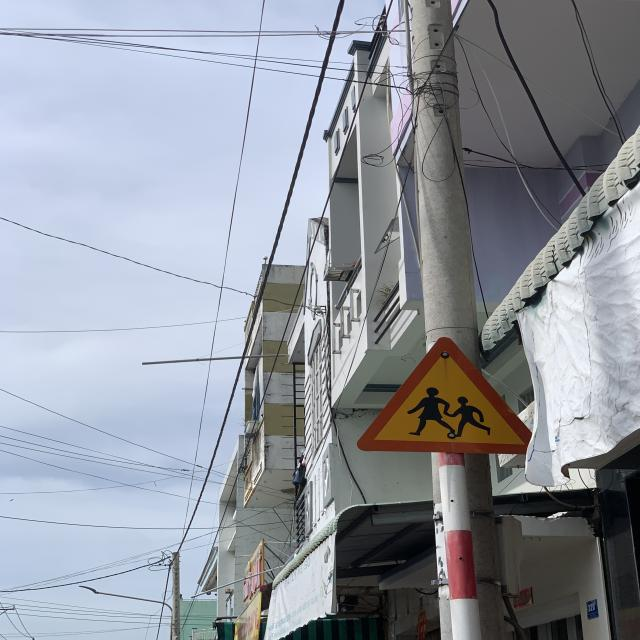Vong_Xuyen: (356, 336, 526, 454)
